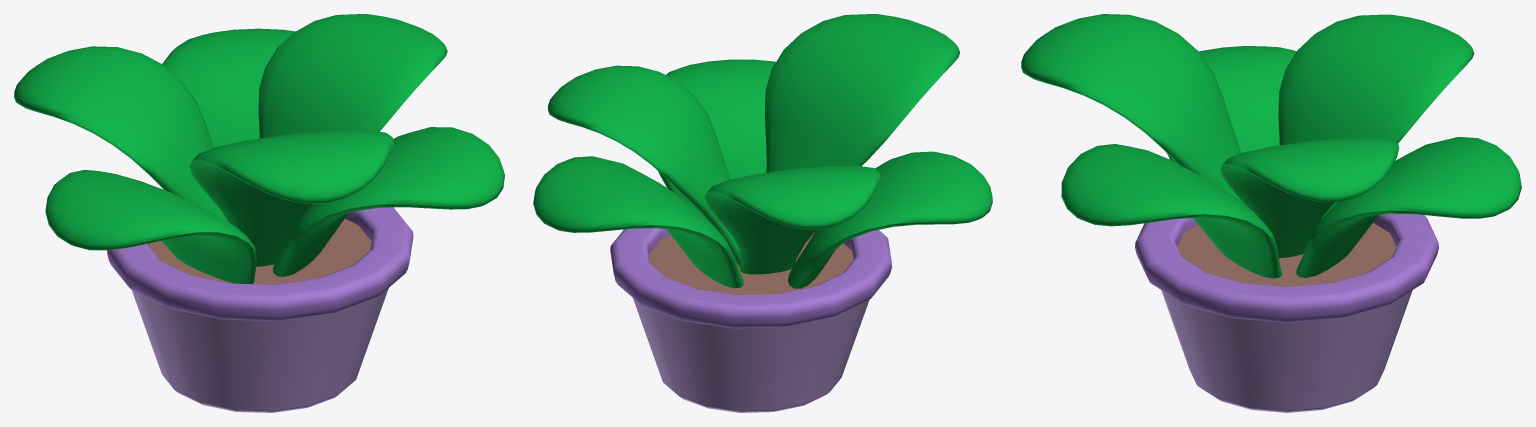
The model's file is Town_12_Plant_6.glb.
3 views of the same model, side by side, from view 1: azimuth 30°, elevation 25°; view 2: azimuth 150°, elevation 25°; view 3: azimuth 270°, elevation 25° (orthographic). The views are drawn at different scales.
Parts seen in each view (by area): view 1: Town_12_Plant_6; view 2: Town_12_Plant_6; view 3: Town_12_Plant_6.
Part boxes in pixels (box(x1,y1,x2,y2)): Town_12_Plant_6: box(14, 14, 504, 412); Town_12_Plant_6: box(533, 14, 992, 412); Town_12_Plant_6: box(1021, 14, 1521, 412).
Size of the model in its own units: 0.7137 by 0.5095 by 0.7465.
1 material, 1 textured.
